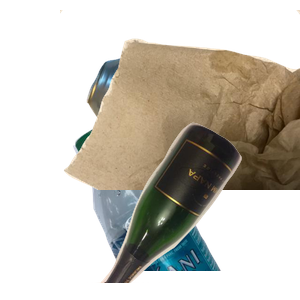glass: (87, 120, 300, 300)
metal: (84, 53, 279, 202)
plastic: (71, 120, 300, 300)
trash: (60, 10, 300, 190)
